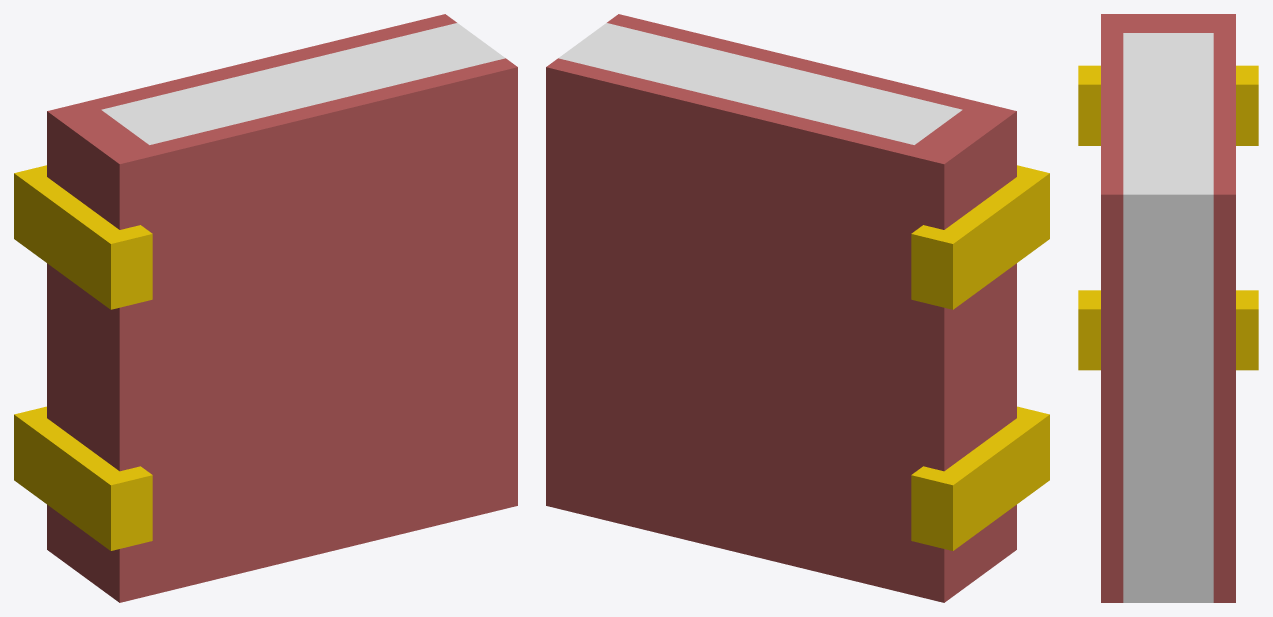
File: SchoolPack-63-book.obj
3 renders of one model, left to right at view 1: azimuth 30°, elevation 25°; view 2: azimuth 150°, elevation 25°; view 3: azimuth 270°, elevation 25°, orthographic. The views are drawn at different scales.
Visible parts, largest first — view 1: book; view 2: book; view 3: book.
Boxes of the visible parts, x1,y1,x2,y2 form: book: (14, 14, 517, 602); book: (546, 14, 1049, 602); book: (1078, 14, 1258, 602).
Size of the model in its own units: 2 by 2 by 0.8.
1 material, 1 textured.
